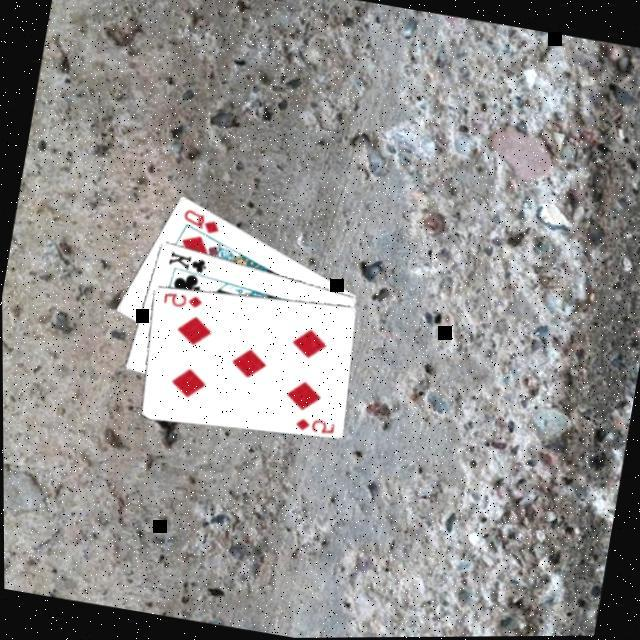5D: (159, 287, 206, 314), (291, 413, 338, 439)
KC: (164, 248, 214, 282)
QD: (179, 206, 225, 239)
